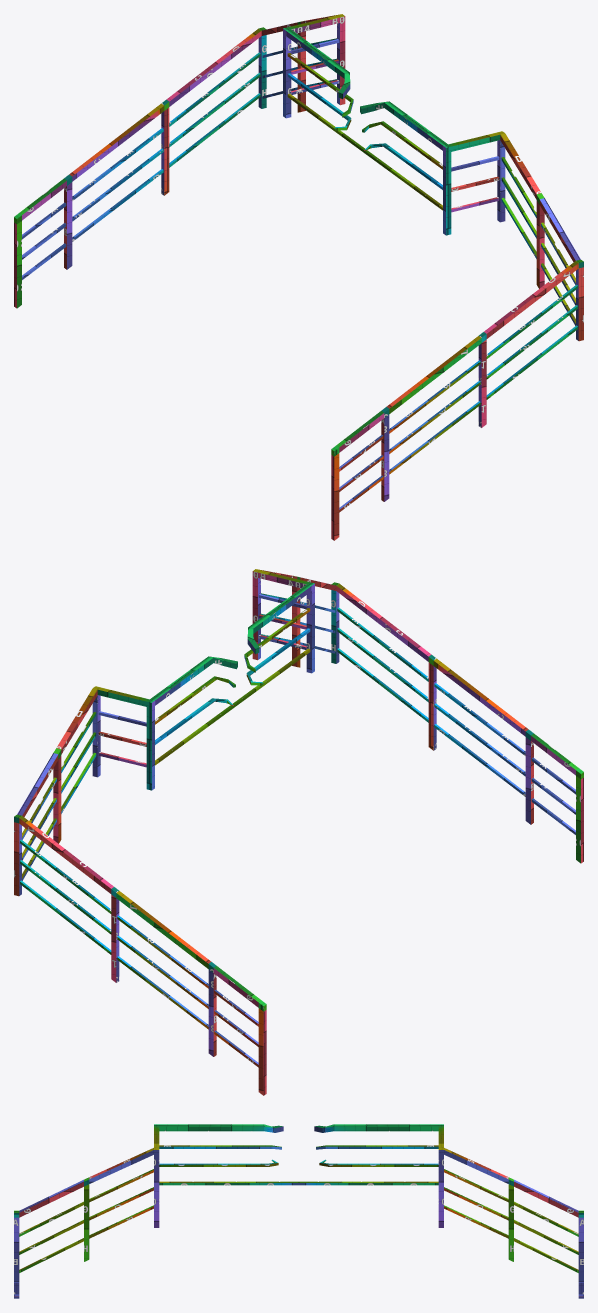
The model's file is Rembardev3.fbx.
3 views of the same model, one above another, from view 1: azimuth 30°, elevation 25°; view 2: azimuth 150°, elevation 25°; view 3: azimuth 270°, elevation 25° (orthographic). The views are drawn at different scales.
Parts seen in each view (by area): view 1: polySurface8526; view 2: polySurface8526; view 3: polySurface8526.
Boxes of the visible parts, x1,y1,x2,y2 form: polySurface8526: (14, 14, 583, 540); polySurface8526: (14, 569, 583, 1095); polySurface8526: (14, 1124, 583, 1298).
Size of the model in its own units: 369 by 408 by 820.
